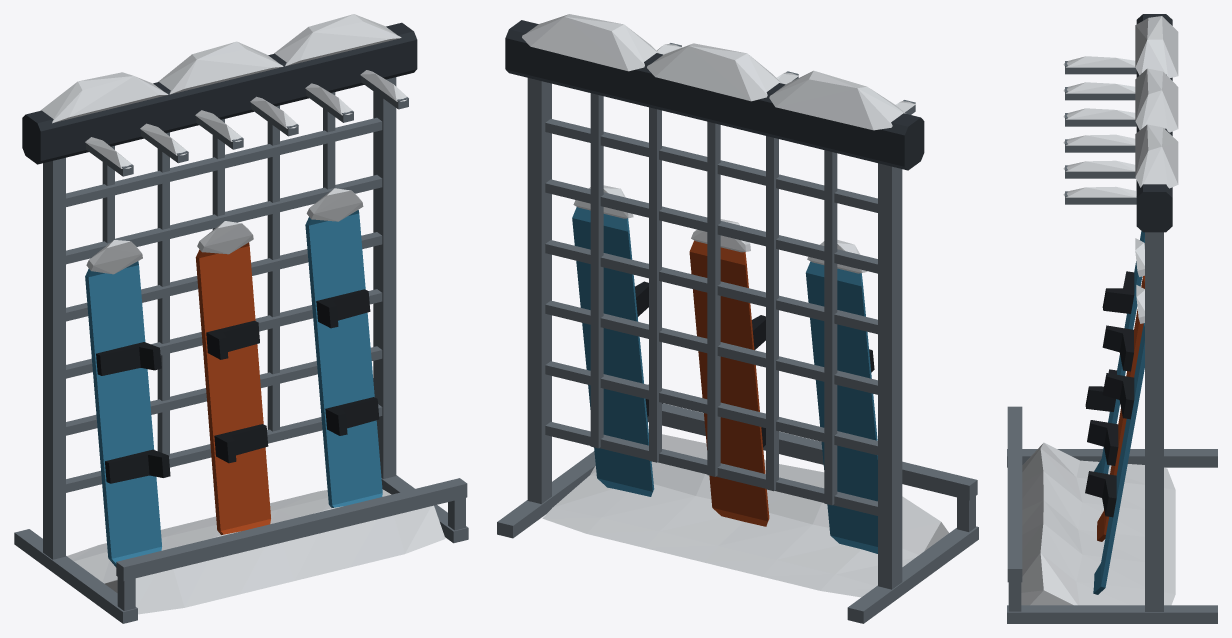
The model's file is snowboard-rack-ecad90.glb.
3 renders of one model, left to right at view 1: azimuth 30°, elevation 25°; view 2: azimuth 150°, elevation 25°; view 3: azimuth 270°, elevation 25°, orthographic. The views are drawn at different scales.
Parts seen in each view (by area): view 1: rack, board-2-mesh, board-3-mesh, board-1-mesh; view 2: rack, board-3-mesh, board-1-mesh, board-2-mesh; view 3: rack, board-3-mesh, board-1-mesh, board-2-mesh.
Part boxes in pixels (left/top/right/bottom): rack: left=14, top=14, right=468, bottom=623; board-2-mesh: left=85, top=240, right=170, bottom=567; board-3-mesh: left=305, top=188, right=382, bottom=507; board-1-mesh: left=195, top=221, right=270, bottom=534; rack: left=497, top=14, right=978, bottom=623; board-3-mesh: left=572, top=185, right=662, bottom=496; board-1-mesh: left=689, top=219, right=769, bottom=526; board-2-mesh: left=805, top=240, right=877, bottom=553; rack: left=1007, top=14, right=1217, bottom=623; board-3-mesh: left=1085, top=285, right=1144, bottom=594; board-1-mesh: left=1087, top=238, right=1144, bottom=541; board-2-mesh: left=1085, top=179, right=1144, bottom=473.
Size of the model in its own units: 2 by 2.42 by 1.
